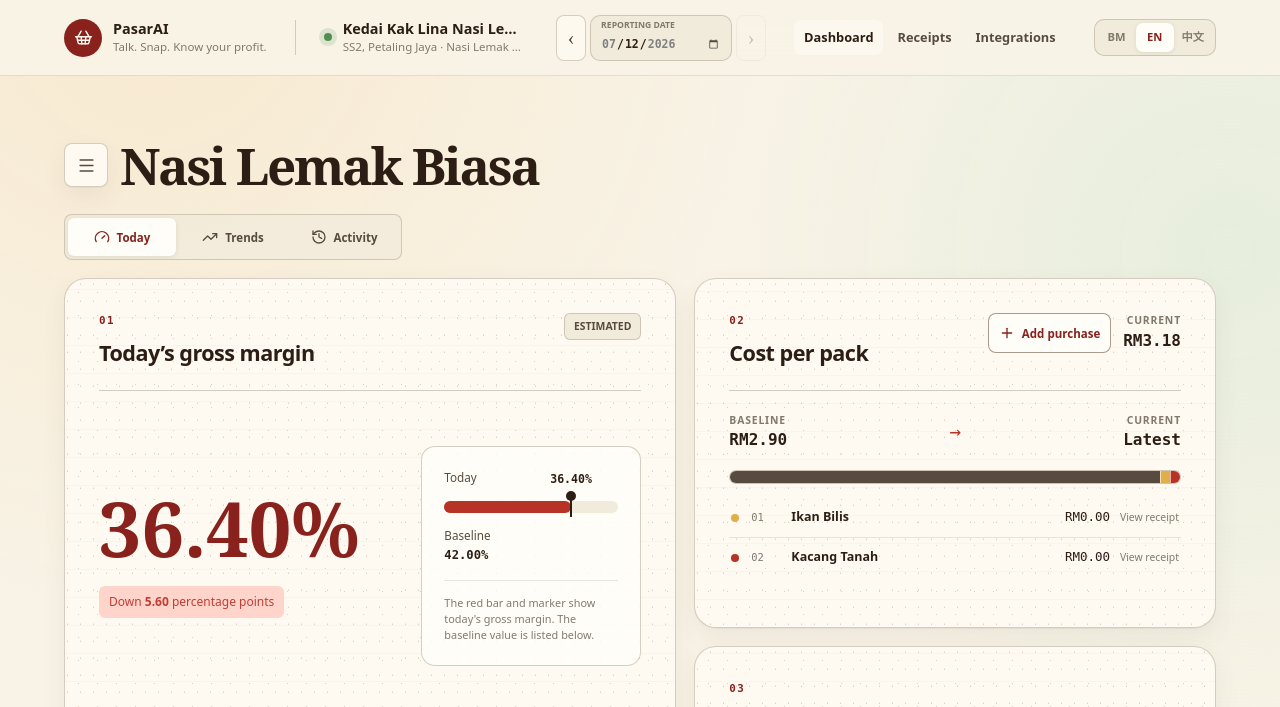
Test: merchant dashboard › keeps shared receipt evidence aligned with the clicked cost item
This screenshot has width=1280, height=707.
Click the button with aria-label "View evidence for Ikan Bilis" at (820, 517), box [729,498,1181,537]
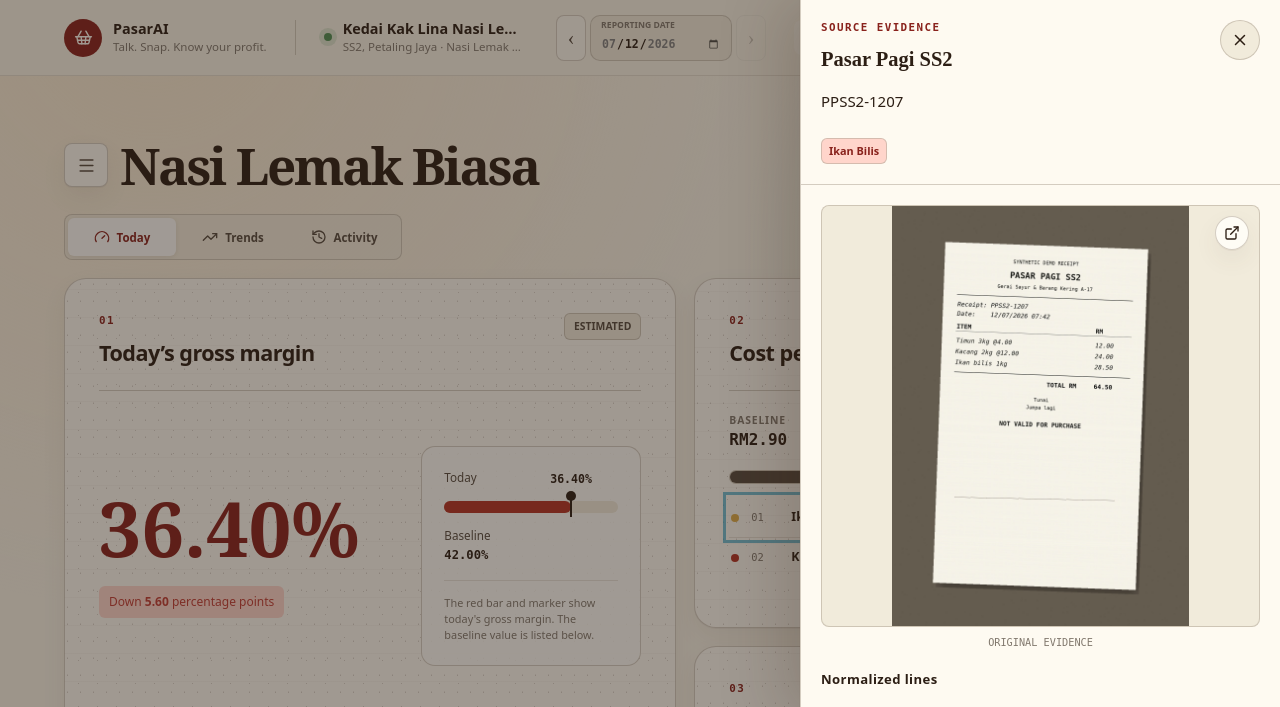
Expected: the text "Kacang 2kg" is not shown
Click the button named "Close evidence" in the row of "Pasar Pagi SS2" at (1240, 40), box [1220,20,1260,60]
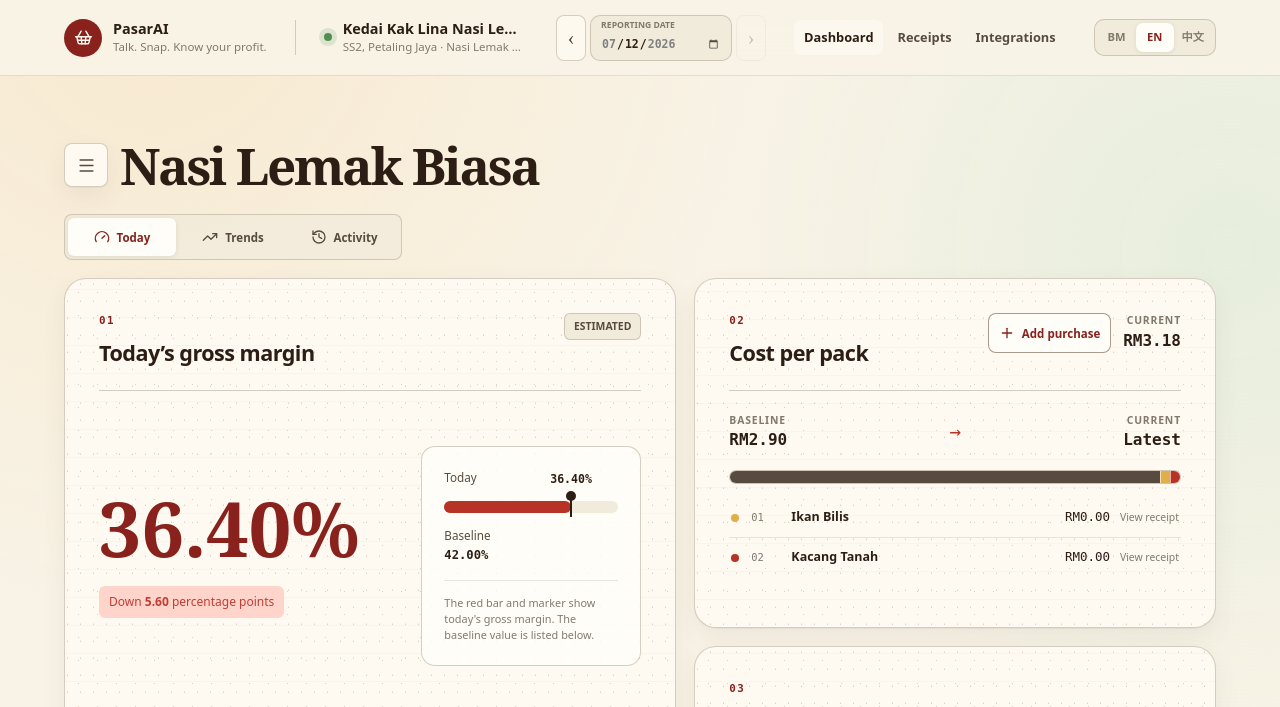
Click the button with aria-label "View evidence for Kacang Tanah" at (835, 557), box [729,538,1181,577]
(page scrolled)
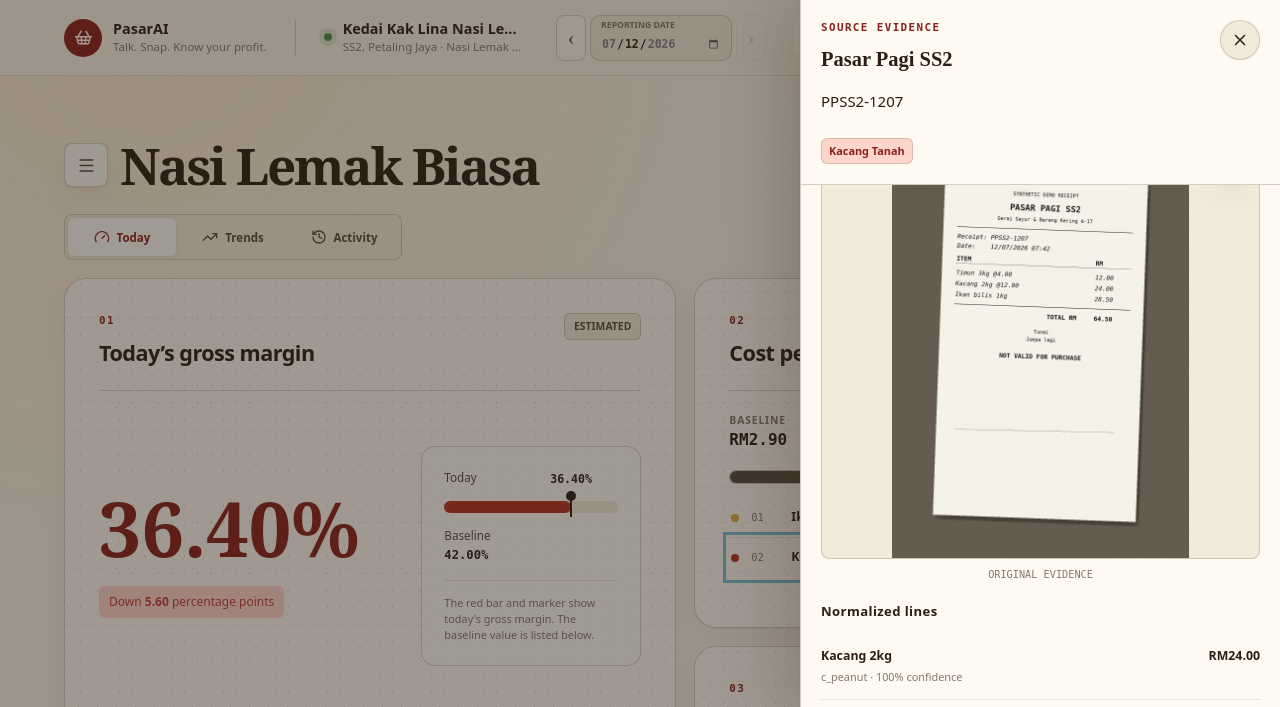
Expected: the text "Ikan bilis 1kg" is not shown
Expected: the text "Kacang 2kg" is shown, [821,647,892,664]
Expected: the text "RM24.00" is shown, [1209,647,1260,665]
